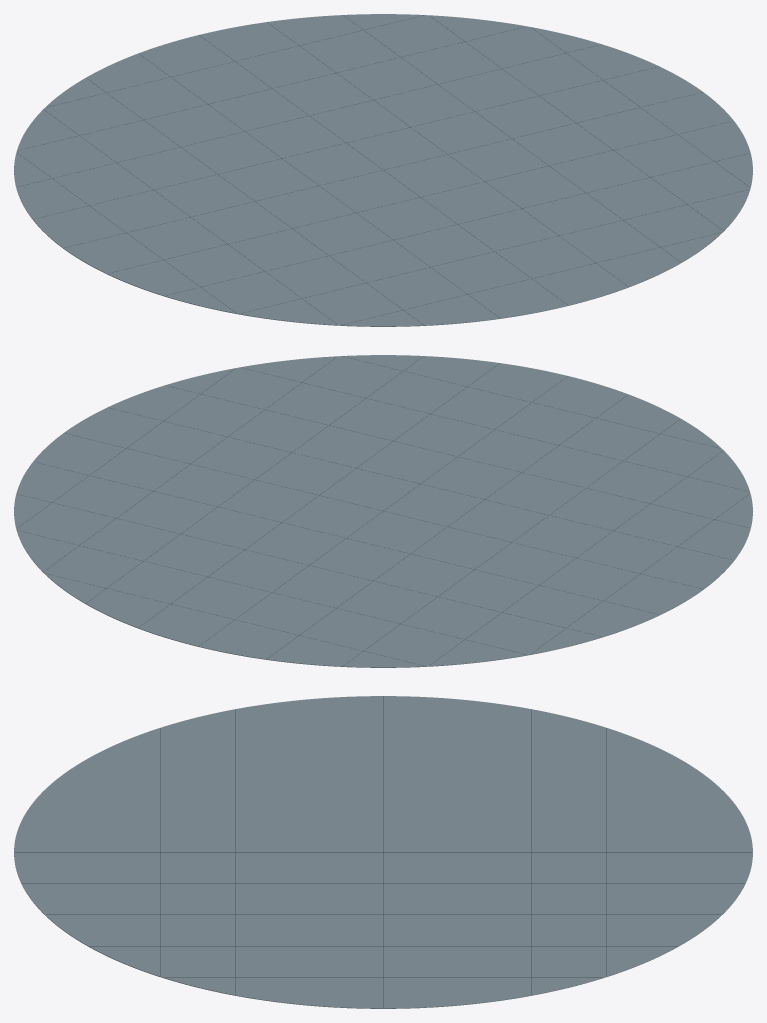
File: S1_FloorFinish.fbx
3 views of the same model, one above another, from view 1: azimuth 30°, elevation 25°; view 2: azimuth 150°, elevation 25°; view 3: azimuth 270°, elevation 25° (orthographic).
Parts seen in each view (by area): view 1: S1_FloorFinish; view 2: S1_FloorFinish; view 3: S1_FloorFinish.
Part boxes in pixels (x1=…): S1_FloorFinish: x1=14, y1=14, x2=752, y2=326; S1_FloorFinish: x1=14, y1=355, x2=752, y2=667; S1_FloorFinish: x1=14, y1=696, x2=752, y2=1008.
Size of the model in its own units: 1992 by 2.1 by 1992.
